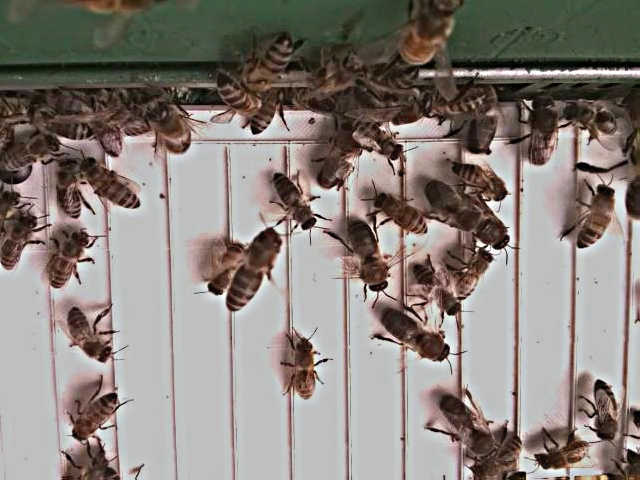Drone: (423, 179, 497, 243), (438, 393, 498, 464), (380, 309, 454, 365), (346, 220, 393, 296), (317, 121, 363, 192), (525, 94, 562, 172)
Worker: (228, 233, 281, 315), (84, 156, 142, 213), (70, 390, 123, 445), (578, 181, 618, 253), (47, 233, 93, 291), (452, 160, 511, 205), (450, 250, 498, 305), (373, 191, 430, 237), (274, 173, 318, 232), (415, 264, 463, 318), (70, 307, 114, 365), (352, 117, 403, 163), (0, 136, 64, 172), (473, 436, 525, 480), (564, 101, 622, 140), (0, 217, 37, 276), (591, 377, 623, 445), (53, 157, 87, 220), (210, 241, 246, 297), (290, 336, 319, 405), (536, 436, 590, 473)
